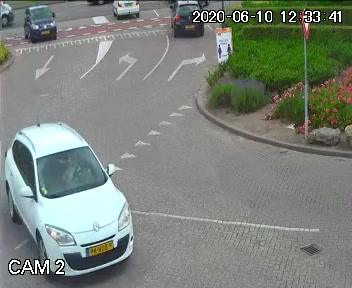car: (0, 109, 147, 270), (17, 5, 67, 49), (168, 1, 206, 42), (112, 0, 143, 22)
